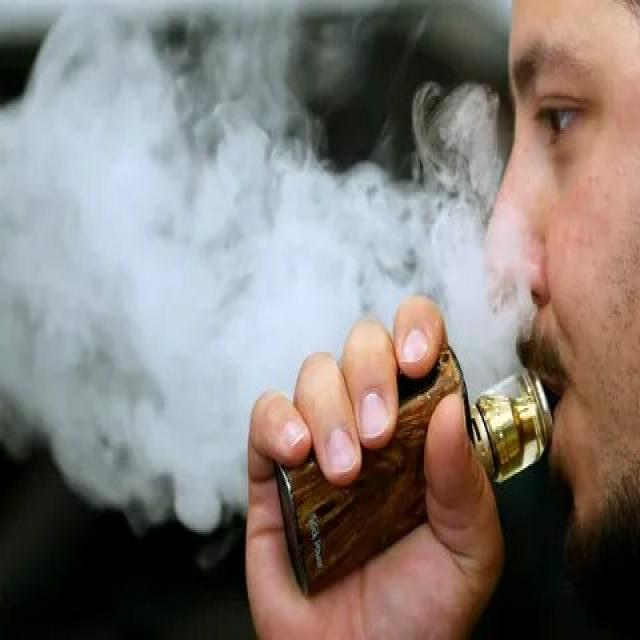smoke: (272, 336, 573, 606)
